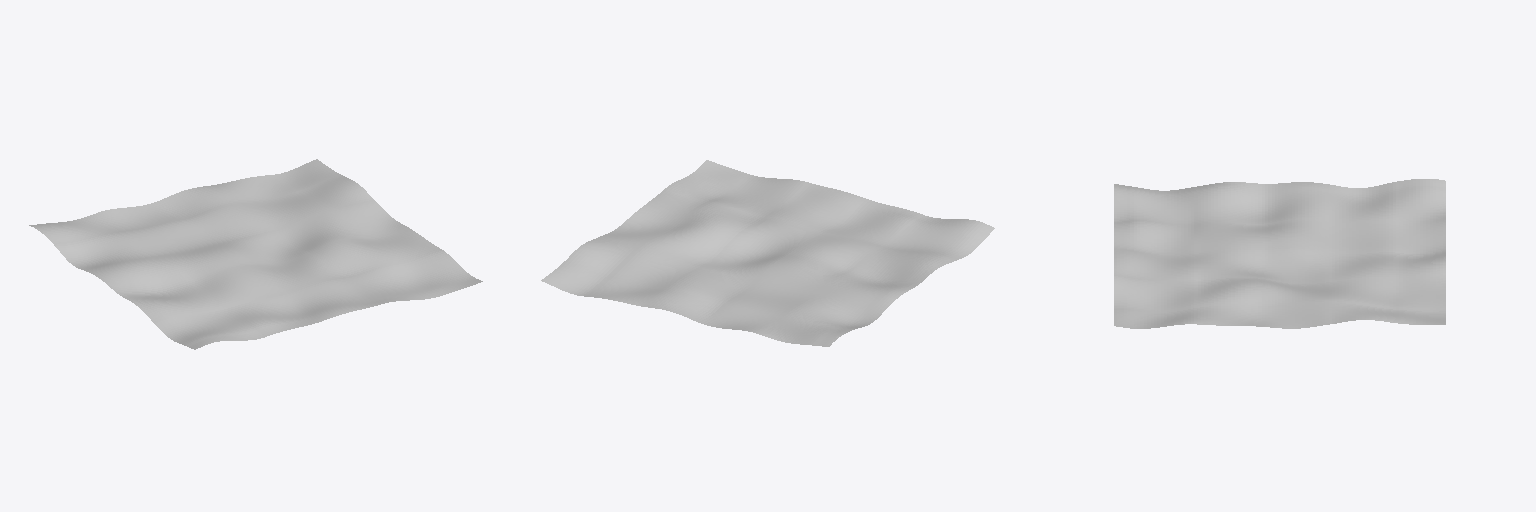
Rendered from Landscape.obj.
The picture shows the model from 3 angles: view 1: azimuth 30°, elevation 25°; view 2: azimuth 150°, elevation 25°; view 3: azimuth 270°, elevation 25°; orthographic projection.
Parts seen in each view (by area): view 1: Grid_Grid.001; view 2: Grid_Grid.001; view 3: Grid_Grid.001.
Boxes of the visible parts, box(x1,y1,x2,y2) form: Grid_Grid.001: box(29, 159, 482, 349); Grid_Grid.001: box(541, 160, 994, 346); Grid_Grid.001: box(1114, 179, 1445, 328).
Size of the model in its own units: 20 by 0.9277 by 20.